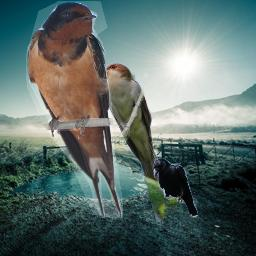Crow: (153, 158, 198, 219)
Cuckoo: (92, 62, 177, 224)
Swallow: (26, 1, 123, 218)
